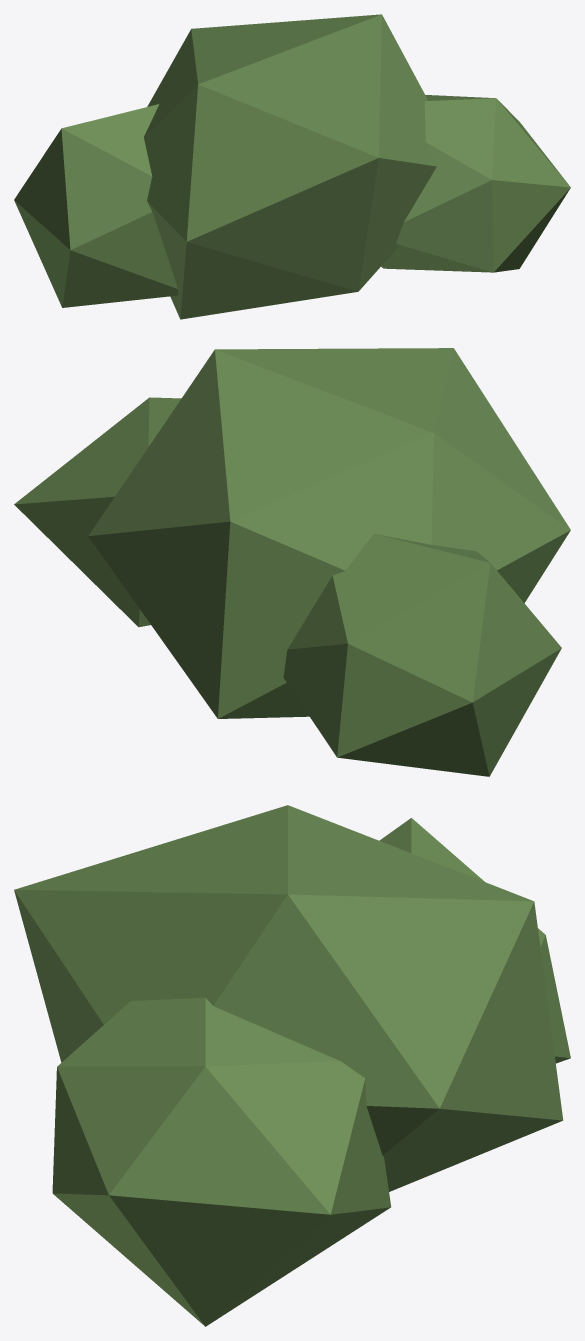
Rendered from bush.glb.
3 renders of one model, top to bottom at view 1: azimuth 30°, elevation 25°; view 2: azimuth 150°, elevation 25°; view 3: azimuth 270°, elevation 25°, orthographic. The views are drawn at different scales.
Parts seen in each view (by area): view 1: bush; view 2: bush; view 3: bush.
Boxes of the visible parts, box(x1,y1,x2,y2) form: bush: box(14, 14, 570, 319); bush: box(14, 348, 570, 776); bush: box(14, 805, 570, 1326).
Size of the model in its own units: 1.77 by 0.9631 by 1.35.
